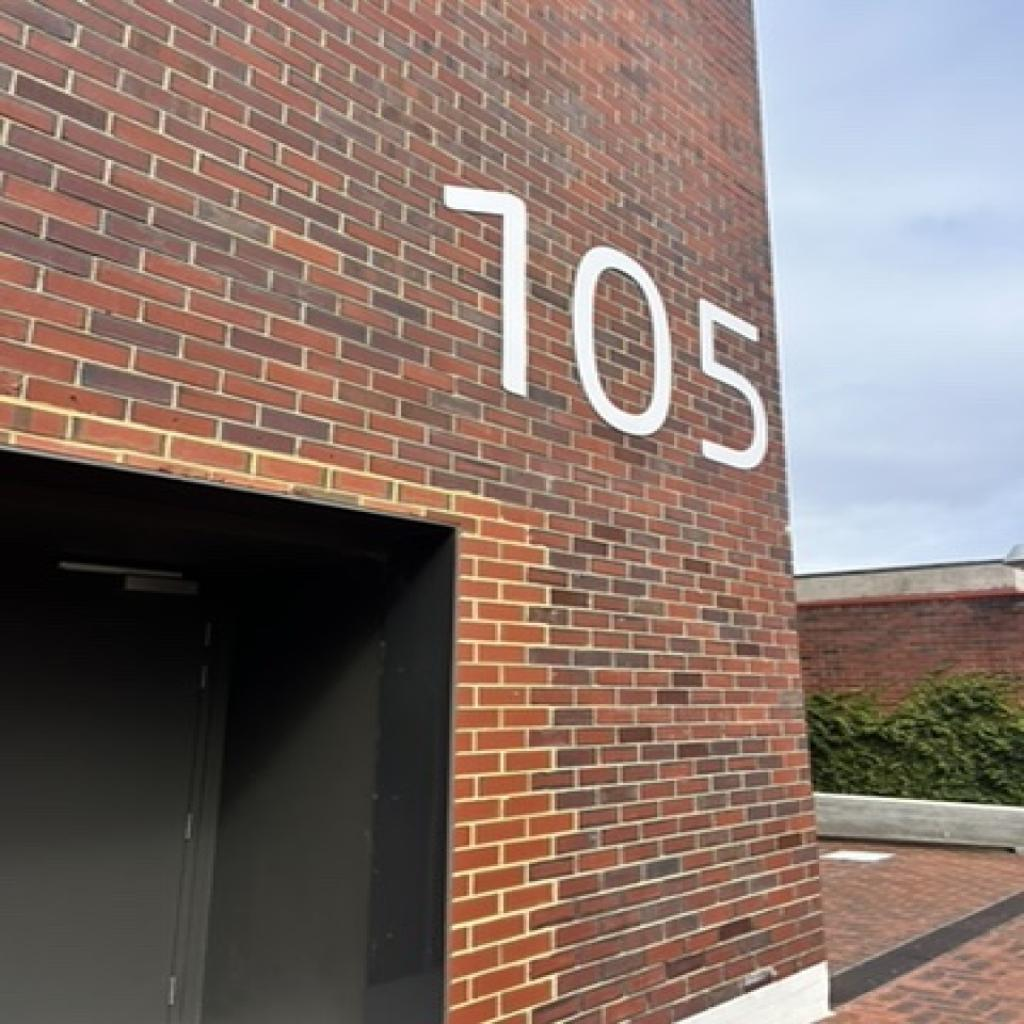BuildingCodes: (440, 182, 770, 474)
